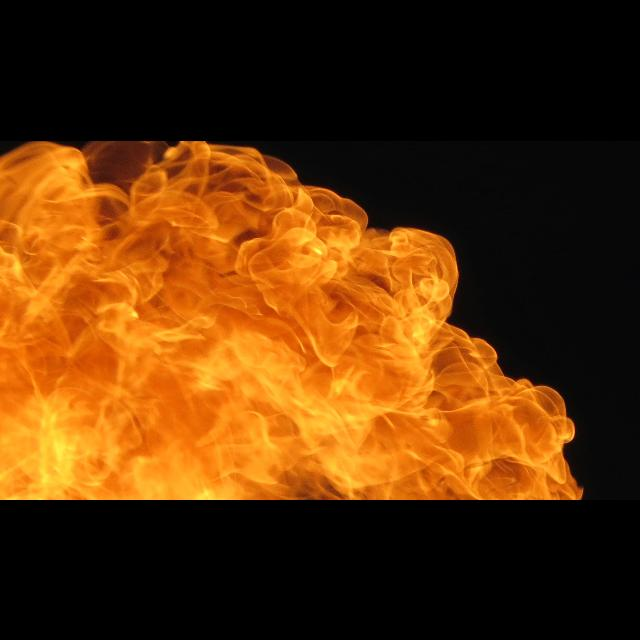fire: (0, 140, 578, 500)
